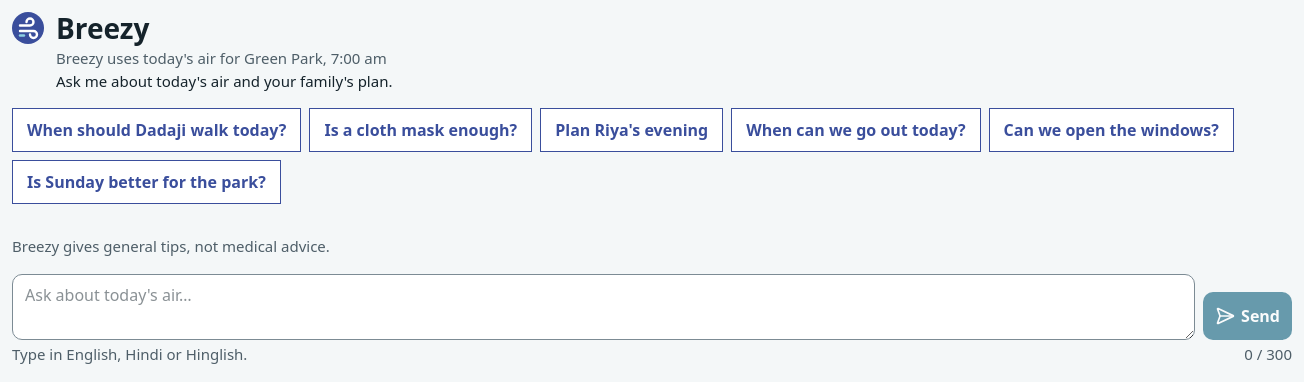
Test: BreezyView › shows the header line, chips, disclaimer and the 300-character counter
Check: the text "Breezy uses today's air for Green Park, 7:00 am" is shown, box [56,48,392,69]
Check: the element named "Suggested questions" is shown, box [12,108,1292,204]
In the text box named "Your question for Breezy": [604, 307] box [12,274,1195,340], type "Hi"
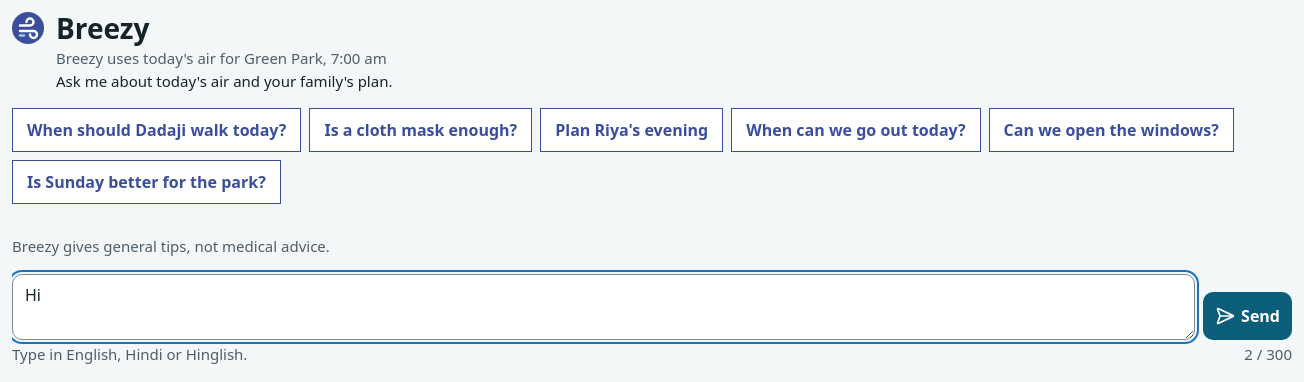
Check: the text "2 / 300" is shown, box [1244,344,1292,365]
